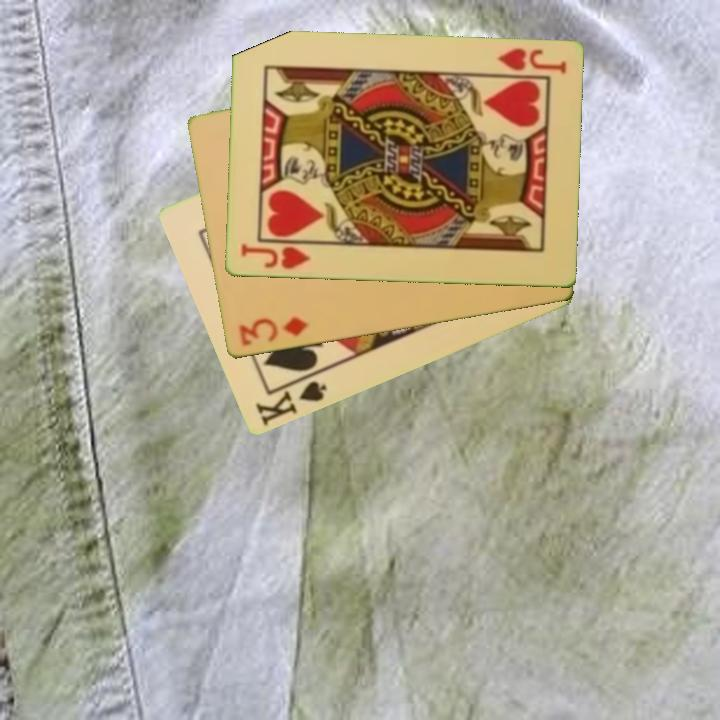3d: (235, 313, 310, 350)
Jh: (237, 239, 319, 273), (493, 45, 569, 77)
Ks: (252, 368, 330, 429)
